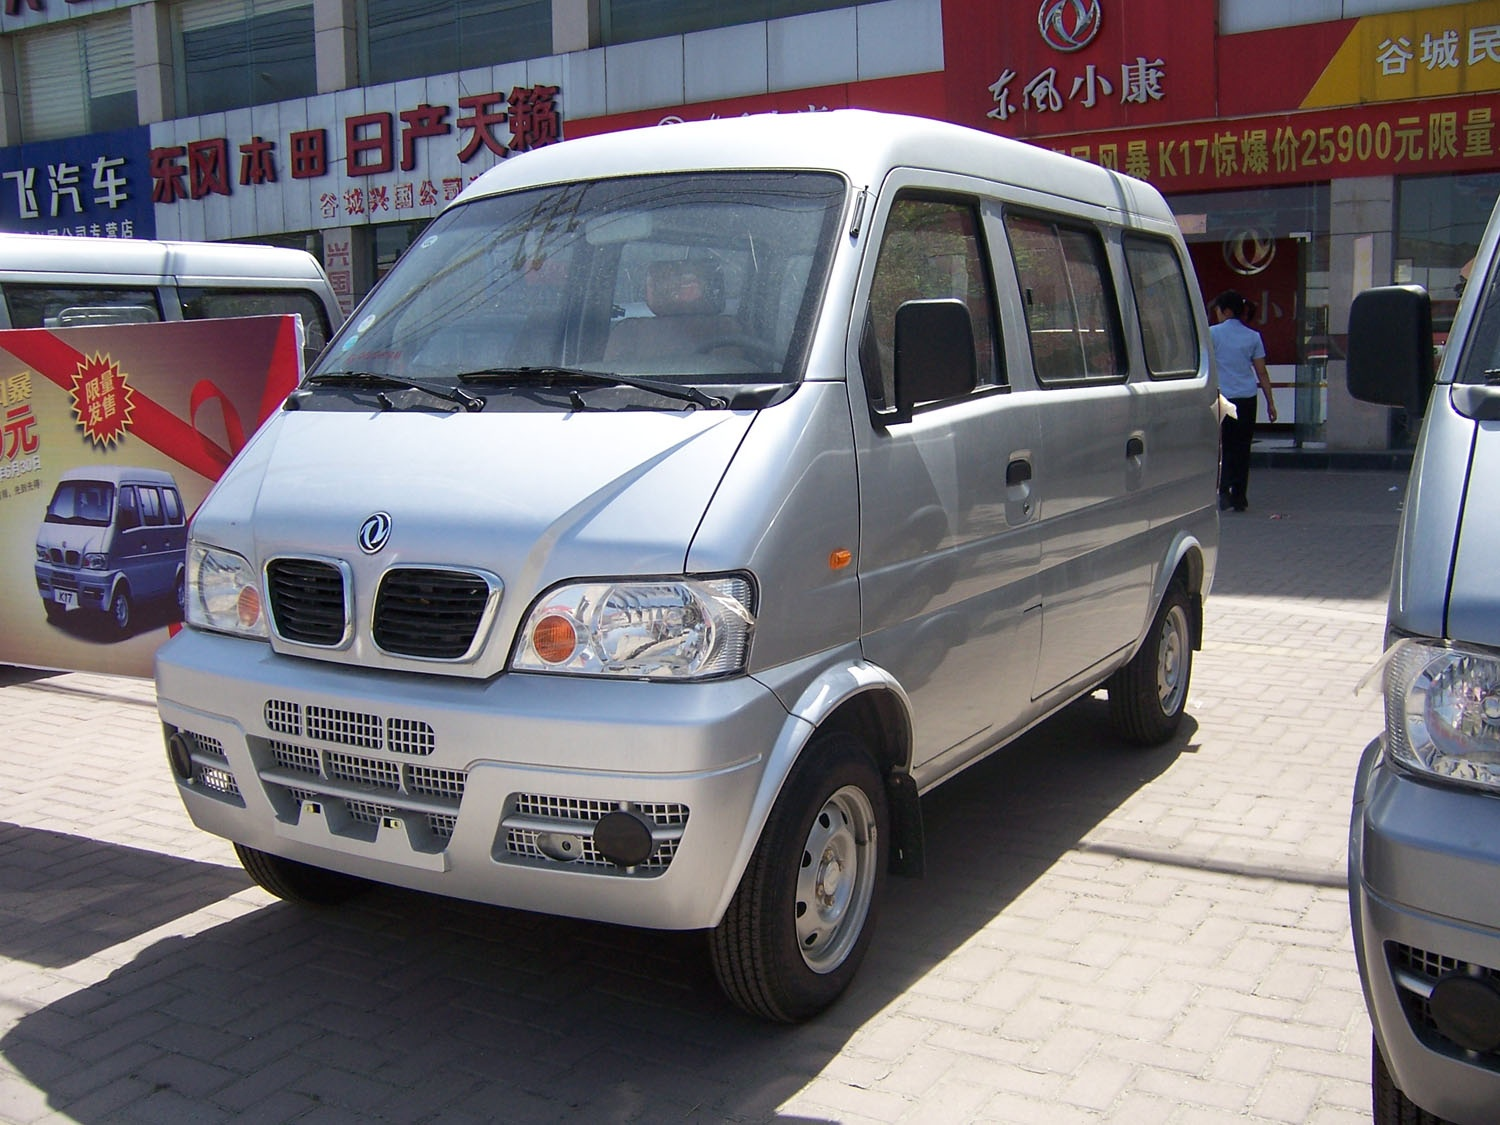minibus: (177, 118, 1243, 969)
